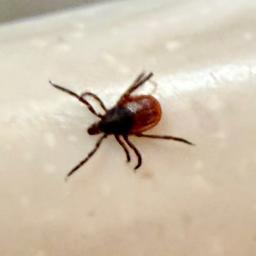Ixodes scapularis: (46, 68, 197, 181)
